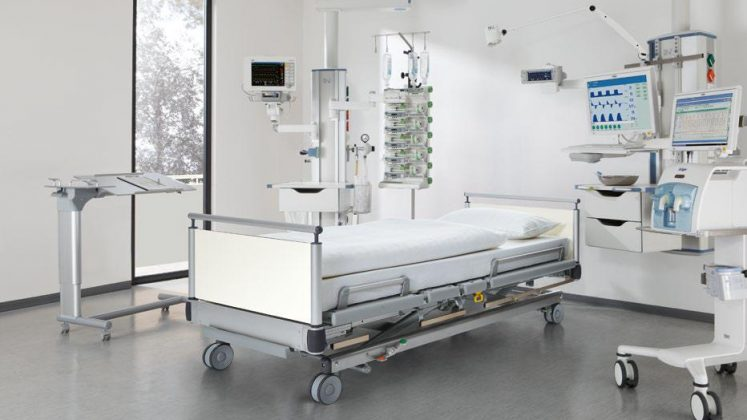bedside_monitor: (668, 91, 747, 157), (587, 66, 655, 133), (246, 58, 294, 96)
foot_board: (185, 213, 326, 355)
hospital_bed: (185, 190, 583, 404)
iv_pole: (363, 27, 440, 92)
medical_drawer: (573, 180, 674, 251)
syringe_pump: (380, 168, 430, 184), (381, 145, 431, 161), (381, 131, 431, 147), (382, 102, 432, 118), (382, 88, 432, 104), (383, 119, 431, 132)
utility_cart: (47, 169, 197, 341)
ventilator: (615, 163, 747, 370)
